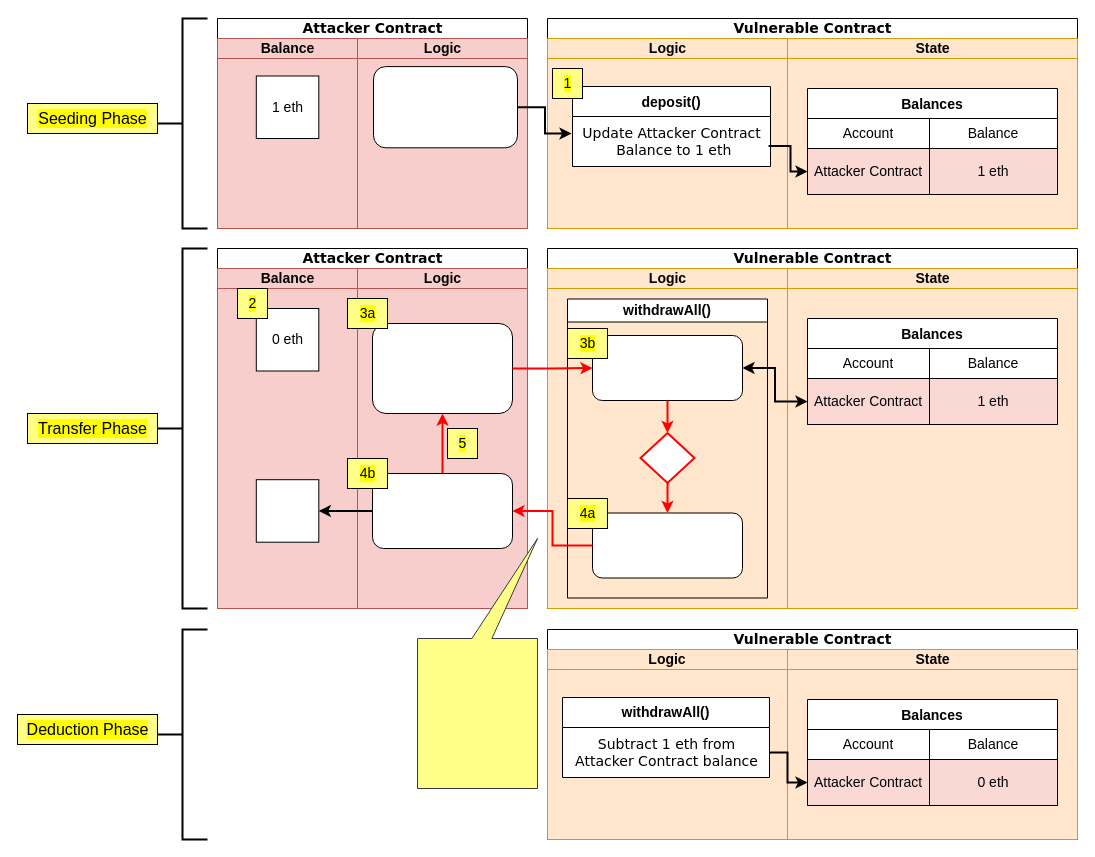
Image size: 1095x857. Some labels were removed from this diagram. Each missing label, with the centre of its shape:
+ 1 eth: point (287, 510)
Call deposit() to transfer 1 eth to Vulnerable Contract: point (445, 107)
Call withdrawAll() to withdraw 1 eth from Vulnerable Contract: point (442, 368)
Does Attacker Contract have 1 eth?: point (667, 367)
Receive 1 eth from Vulnerable Contract: point (442, 510)
Red Arrows correspond to the "Attack Loop": point (477, 663)
Transfer 1 eth to Attacker Contract: point (667, 545)
True: point (667, 458)
